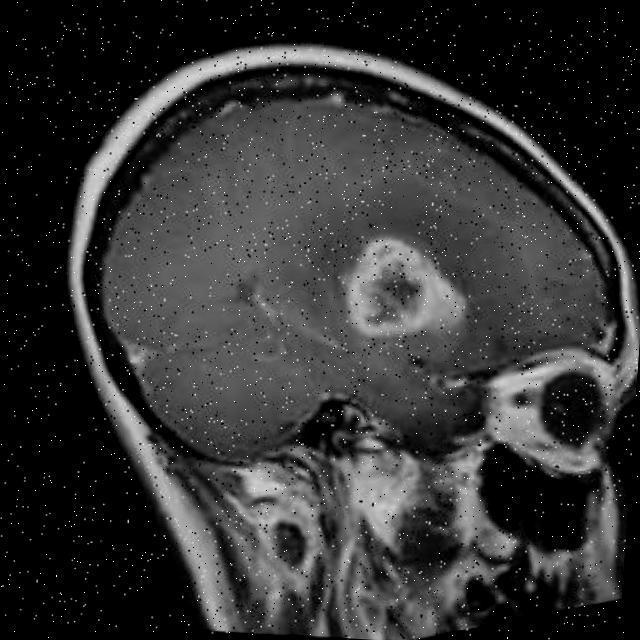MCI: (302, 174, 500, 343)
